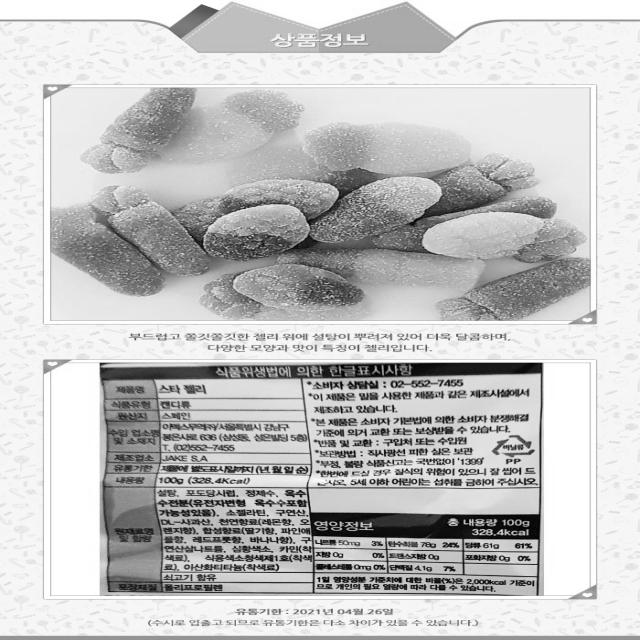Nutrition Label: (309, 511, 541, 598)
